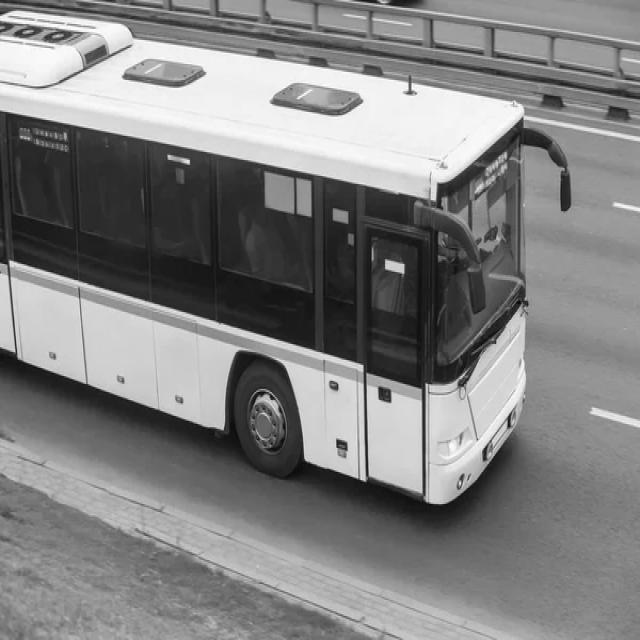Bus: (0, 9, 572, 504)
